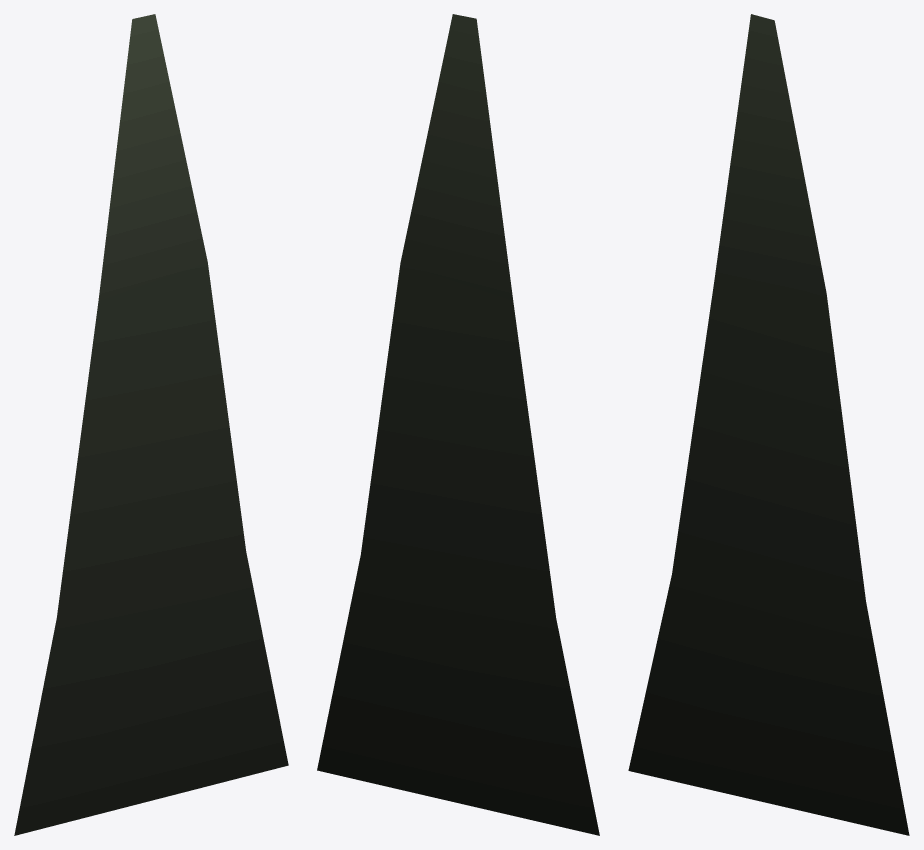
The model's file is GrassSingle3.glb.
The picture shows the model from 3 angles, left to right: view 1: azimuth 30°, elevation 25°; view 2: azimuth 150°, elevation 25°; view 3: azimuth 330°, elevation 25°; orthographic projection.
Parts seen in each view (by area): view 1: GrassSingle3; view 2: GrassSingle3; view 3: GrassSingle3.
Boxes of the visible parts, left/top/right/bottom form: GrassSingle3: left=14, top=14, right=288, bottom=835; GrassSingle3: left=317, top=14, right=599, bottom=835; GrassSingle3: left=628, top=14, right=909, bottom=835.
Bounding box in the file's own units: 0.0819 × 0.2212 × 0.00184.
Materials: 1 (1 with a texture image).
